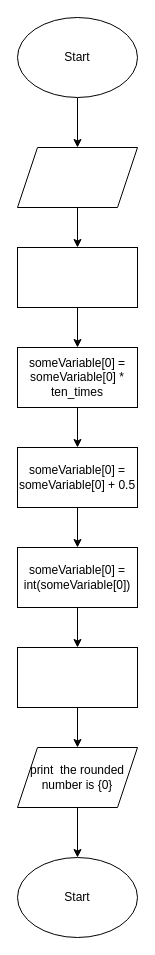
This 155x955 diagram has some shape labels left out. Each missing label, with the centre of its shape:
"Get amount" belongs at [77,177].
"someVariable [ 0 ] = someVariable [ 0 ] / ten_times" belongs at [77,677].
"ten_times = 10**amount" belongs at [77,277].
